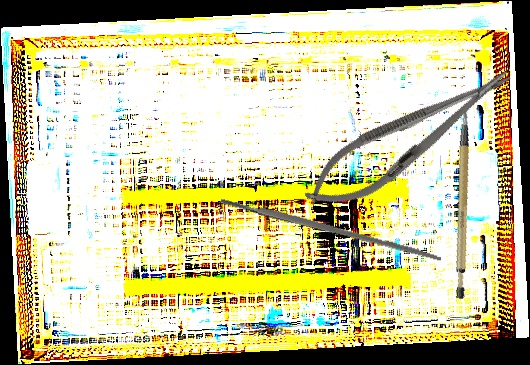Needle Holder: (293, 51, 525, 226)
Scalpel Handle: (219, 194, 443, 264), (429, 103, 500, 300)
